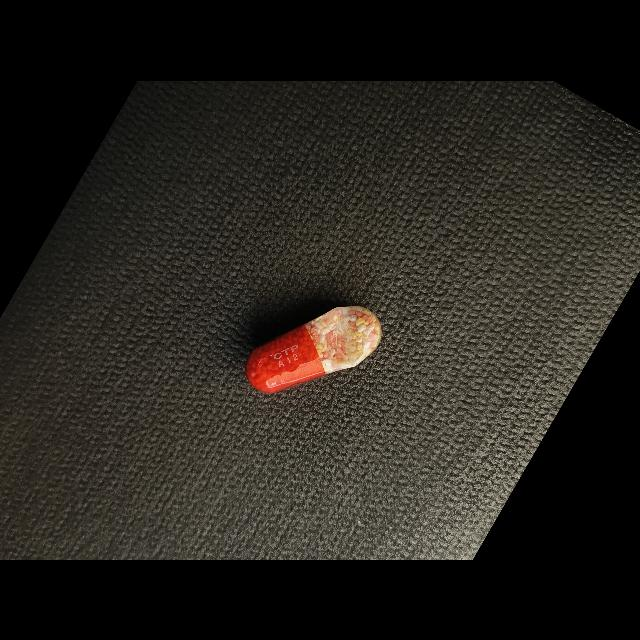Defective Capsule: (246, 306, 382, 392)
